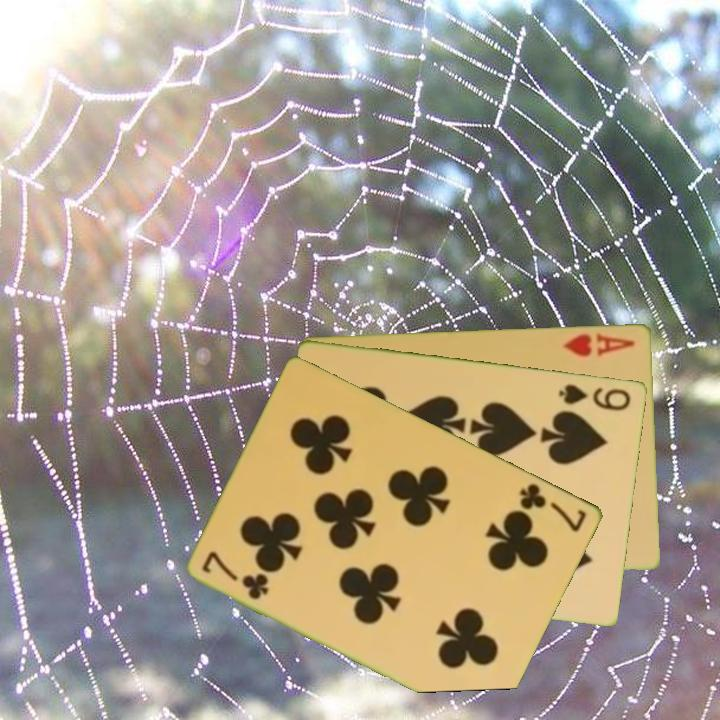7c: (516, 479, 590, 535), (199, 547, 272, 603)
9s: (555, 380, 634, 413)
Ah: (560, 329, 638, 359)
